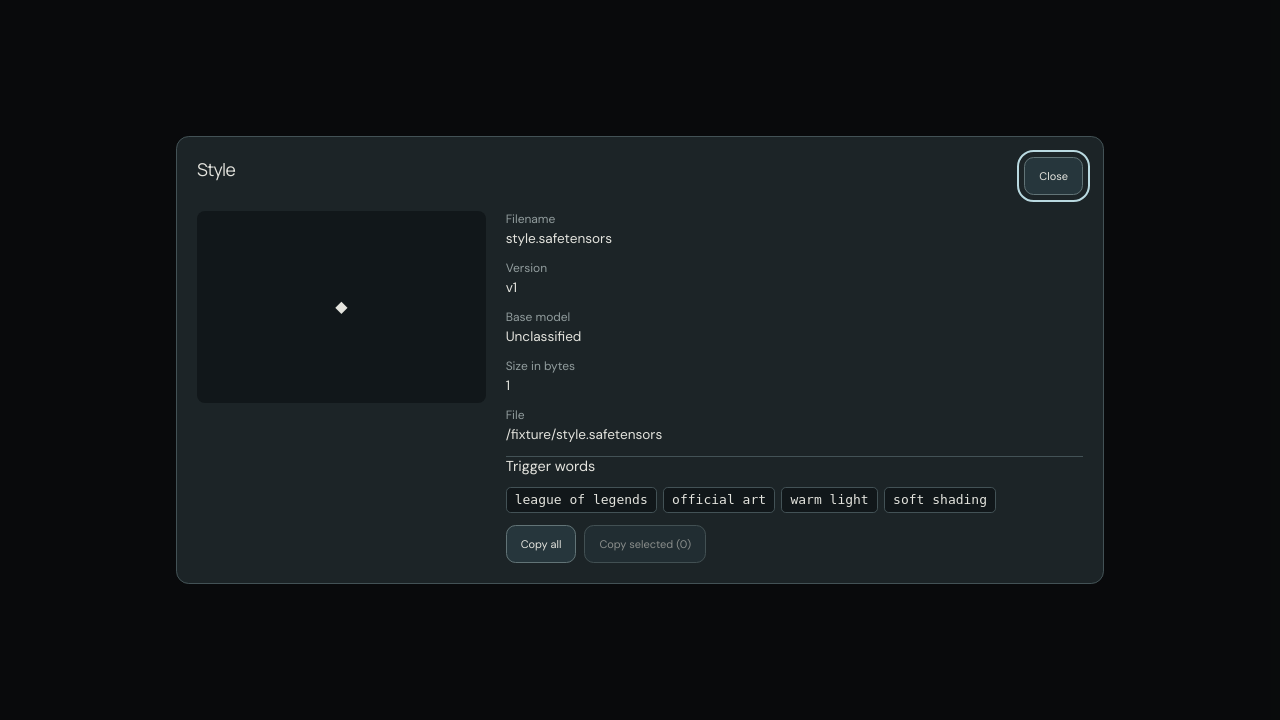
retains the selection after clipboard refusal and logs only the fixed operation
The width and height of the screenshot is (1280, 720).
Click the button "warm light" at point(830, 500), box [781,487,878,513]
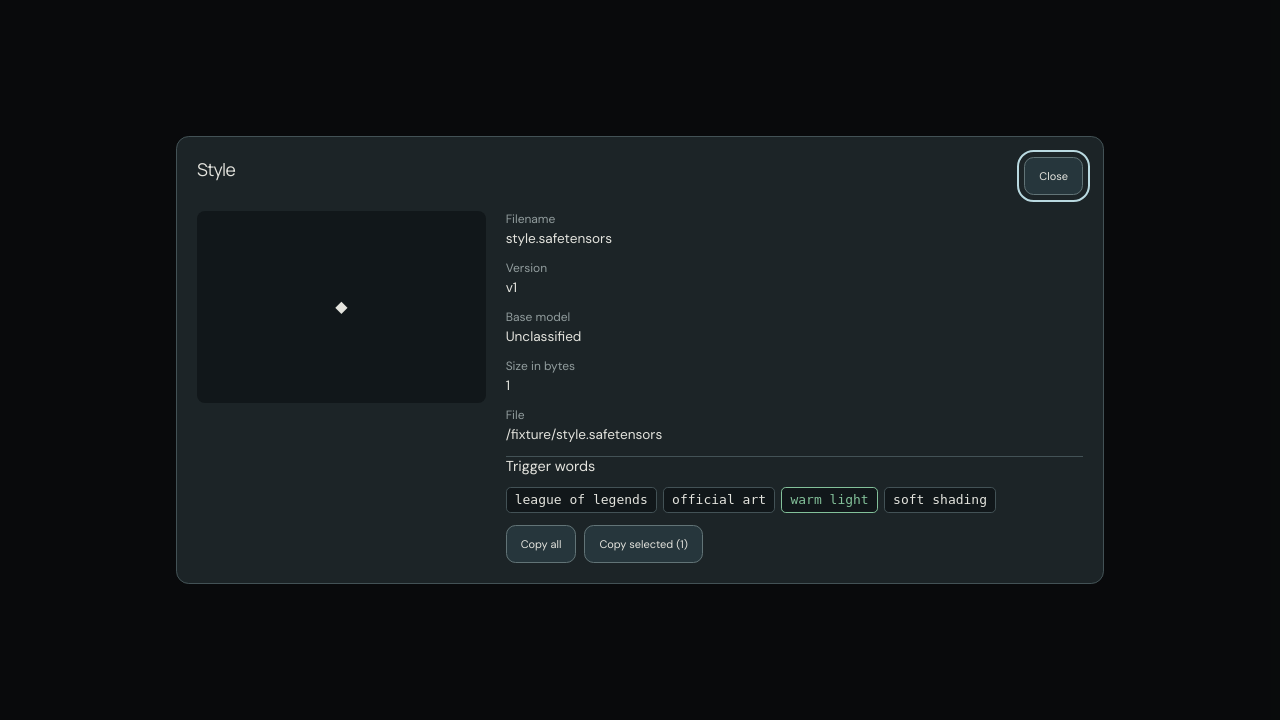
Click the button "Copy selected (1)" at point(644, 544), box [584,525,703,563]
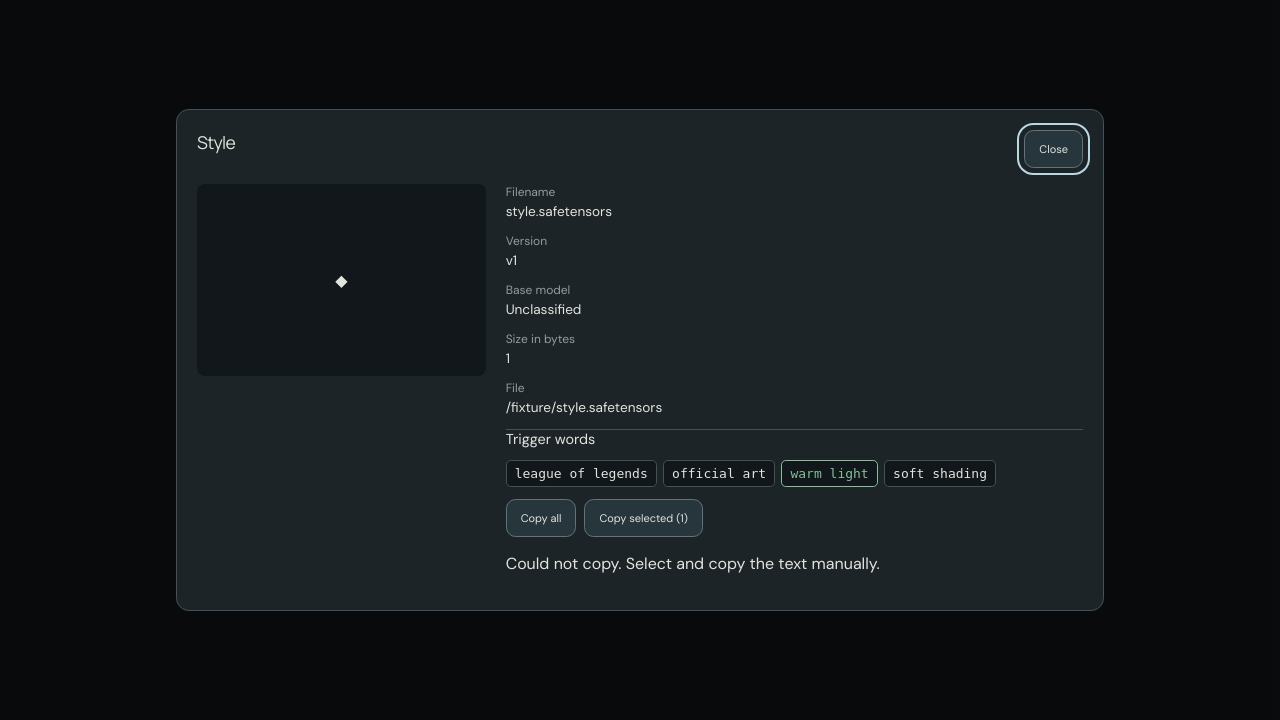
Now the message "Could not copy. Select and copy the text manually." is shown, box [506,553,880,574]
